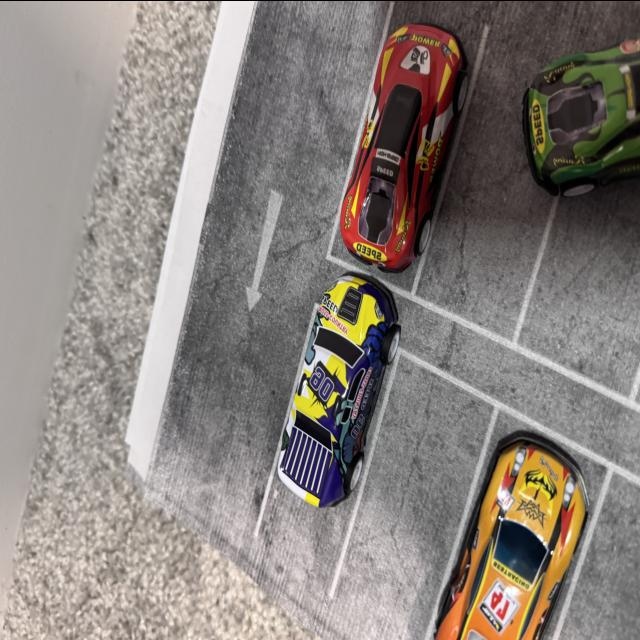car: (427, 388, 635, 640), (486, 0, 640, 254), (256, 261, 396, 514), (337, 0, 440, 302)
